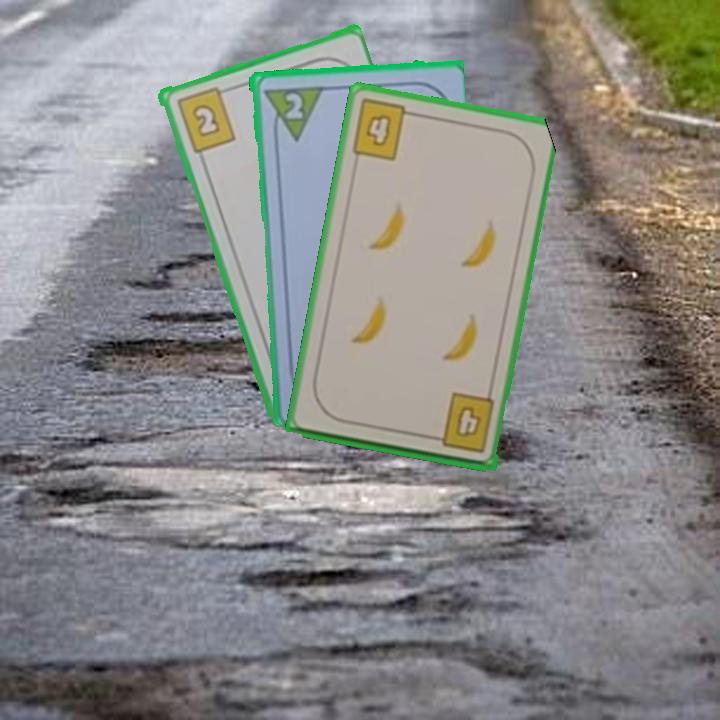2b: (172, 83, 238, 155)
2p: (259, 82, 324, 144)
4b: (347, 95, 419, 164), (426, 389, 497, 456)
